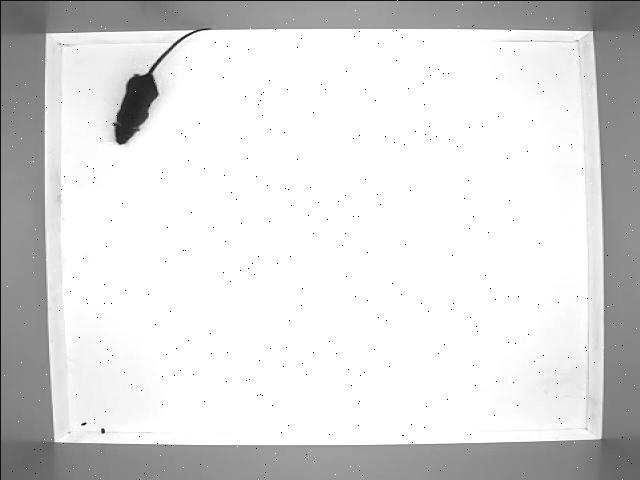Tikus: (110, 27, 214, 147)
